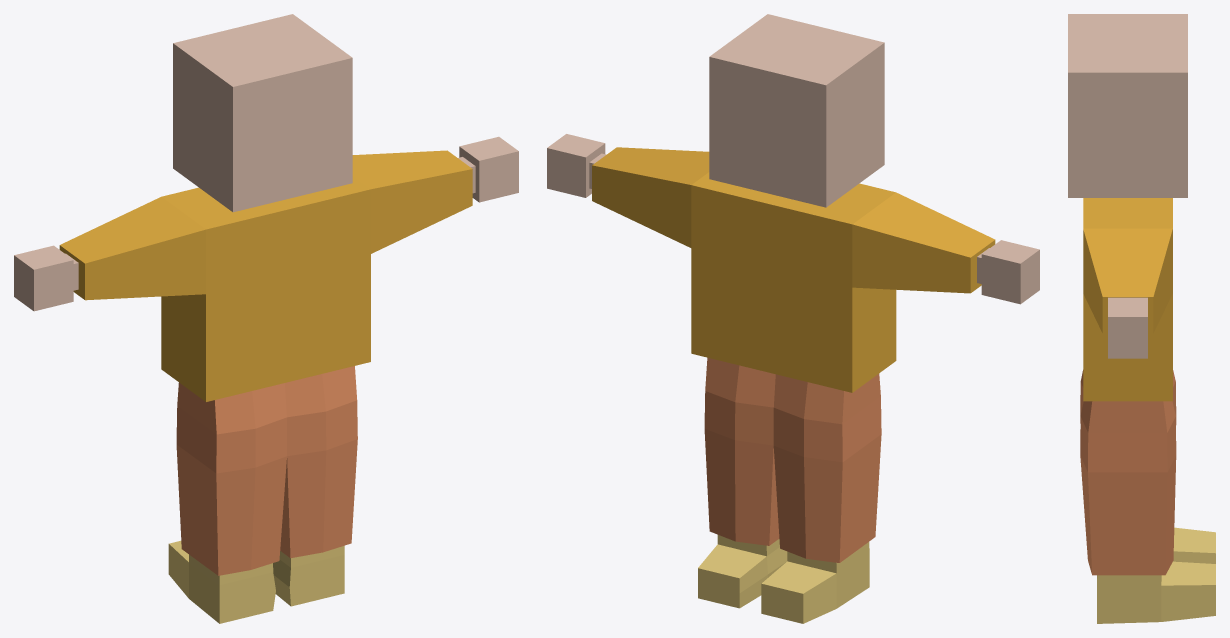
Rendered from Neighbour_2.fbx.
3 renders of one model, left to right at view 1: azimuth 30°, elevation 25°; view 2: azimuth 150°, elevation 25°; view 3: azimuth 270°, elevation 25°, orthographic. The views are drawn at different scales.
Parts seen in each view (by area): view 1: Cube.011, Cube.001, Cube.012, Cube.018, Cube.019, Cube.015, Cube.017; view 2: Cube.011, Cube.001, Cube.012, Cube.018, Cube.019, Cube.015, Cube.017; view 3: Cube.012, Cube.001, Cube.011, Cube.019, Cube.017, Cube.018.
Boxes of the visible parts, x1,y1,x2,y2 form: Cube.011: [59, 150, 472, 401]; Cube.001: [176, 366, 357, 575]; Cube.012: [173, 14, 352, 212]; Cube.018: [168, 540, 275, 623]; Cube.019: [273, 545, 344, 606]; Cube.015: [14, 245, 73, 311]; Cube.017: [459, 136, 518, 202]; Cube.011: [592, 147, 995, 392]; Cube.001: [704, 357, 881, 562]; Cube.012: [709, 14, 884, 207]; Cube.018: [761, 542, 869, 623]; Cube.019: [698, 535, 787, 608]; Cube.015: [981, 240, 1039, 304]; Cube.017: [547, 134, 605, 197]; Cube.012: [1068, 14, 1187, 197]; Cube.001: [1080, 370, 1176, 575]; Cube.011: [1083, 198, 1172, 401]; Cube.019: [1097, 561, 1215, 623]; Cube.017: [1108, 297, 1147, 358]; Cube.018: [1173, 527, 1215, 563].
Size of the model in its own units: 155 by 167 by 40.78.
